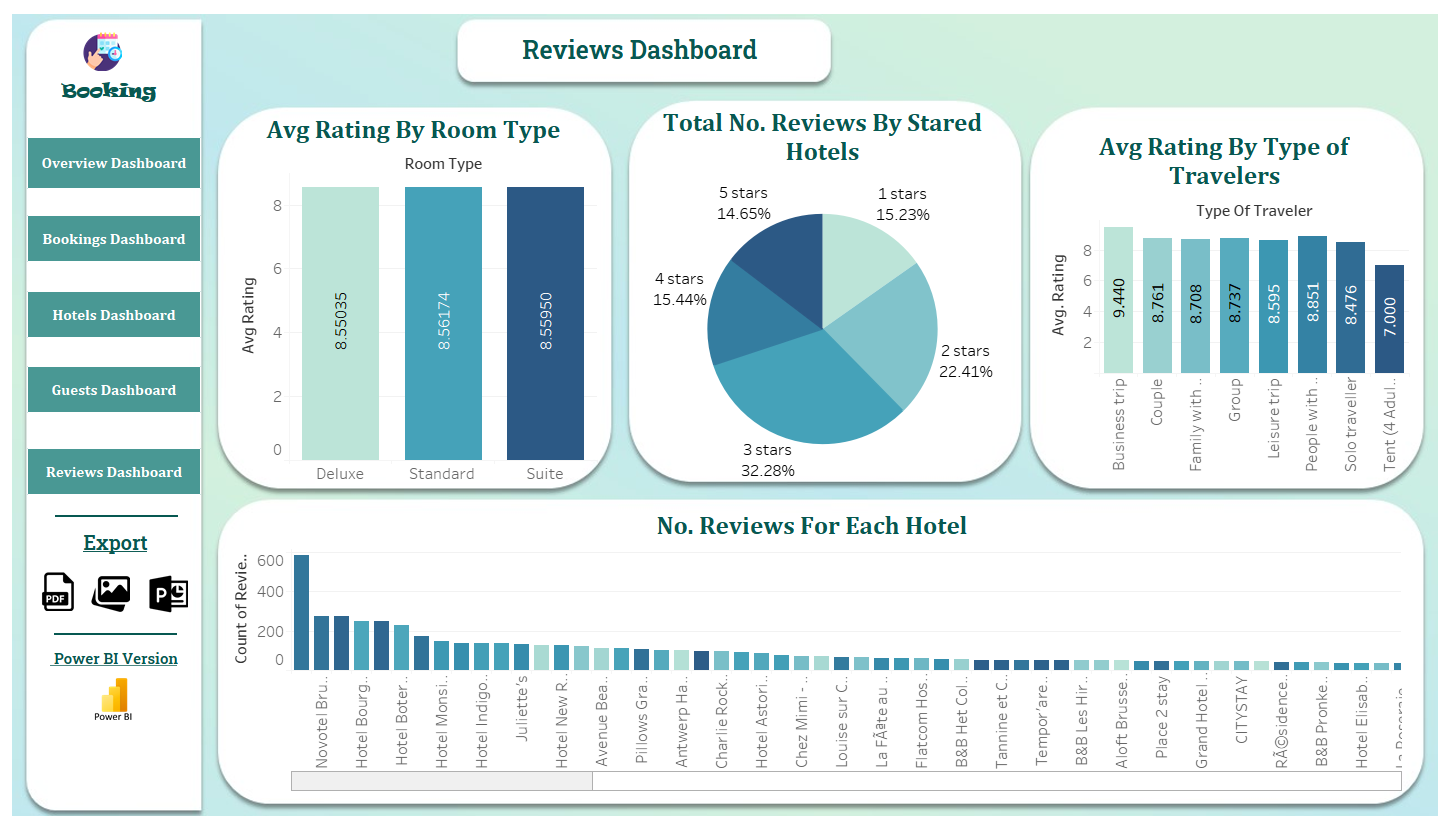

The dashboard page shown, as its layout file describes it:
{"tool":"tableau","page":{"name":"Review Dashboard ","canvas":[1450,830],"ordinal":4},"visuals":[{"type":"image","param":"Image/revi.jpg","box":[8,8,1434,814]},{"type":"image","param":"Image/choose.png","box":[83,32,47,39]},{"type":"text","box":[519,32,370,34]},{"type":"text","box":[58,75,100,30]},{"type":"worksheet","title":"Total No. Reviews By Stared Hotels","mark":"Pie","box":[627,101,391,381]},{"type":"worksheet","title":"Avg Rating By Room Type","mark":"Automatic","rows":["avg_rating"],"cols":["Room Type"],"box":[230,108,367,377]},{"type":"worksheet","title":"Avg Rating By Type of Travelers","mark":"Automatic","rows":["rating"],"cols":["Type_Of_Traveler"],"box":[1040,125,369,348]},{"type":"dashboard-object","box":[27,137,174,52]},{"type":"dashboard-object","box":[27,215,174,47]},{"type":"dashboard-object","box":[27,291,174,47]},{"type":"dashboard-object","box":[27,366,174,47]},{"type":"dashboard-object","box":[27,448,174,47]},{"type":"worksheet","title":"No. Reviews For Each Hotel","mark":"Automatic","rows":["Review_id_SK"],"cols":["hotel_name"],"box":[223,504,1178,287]},{"type":"blank","box":[55,515,123,2]},{"type":"text","box":[80,526,92,34]},{"type":"dashboard-object","box":[73,574,76,39]},{"type":"dashboard-object","box":[123,574,91,39]},{"type":"blank","box":[54,633,123,2]},{"type":"text","box":[47,646,144,25]},{"type":"image","param":"Image/Microsoft-Power-BI-Symbol.png","box":[75,677,77,61]}]}

Visuals, with their boxes in screenshot pixels (x1, y1, x2, y2), scaled from the page's 1450x830 canvas onto the 1450x830 screenshot:
image: left=8, top=8, right=1442, bottom=822
image: left=83, top=32, right=130, bottom=71
text: left=519, top=32, right=889, bottom=66
text: left=58, top=75, right=158, bottom=105
"Total No. Reviews By Stared Hotels" worksheet (Pie marks): left=627, top=101, right=1018, bottom=482
"Avg Rating By Room Type" worksheet: left=230, top=108, right=597, bottom=485
"Avg Rating By Type of Travelers" worksheet: left=1040, top=125, right=1409, bottom=473
dashboard-object: left=27, top=137, right=201, bottom=189
dashboard-object: left=27, top=215, right=201, bottom=262
dashboard-object: left=27, top=291, right=201, bottom=338
dashboard-object: left=27, top=366, right=201, bottom=413
dashboard-object: left=27, top=448, right=201, bottom=495
"No. Reviews For Each Hotel" worksheet: left=223, top=504, right=1401, bottom=791
blank: left=55, top=515, right=178, bottom=517
text: left=80, top=526, right=172, bottom=560
dashboard-object: left=73, top=574, right=149, bottom=613
dashboard-object: left=123, top=574, right=214, bottom=613
blank: left=54, top=633, right=177, bottom=635
text: left=47, top=646, right=191, bottom=671
image: left=75, top=677, right=152, bottom=738
